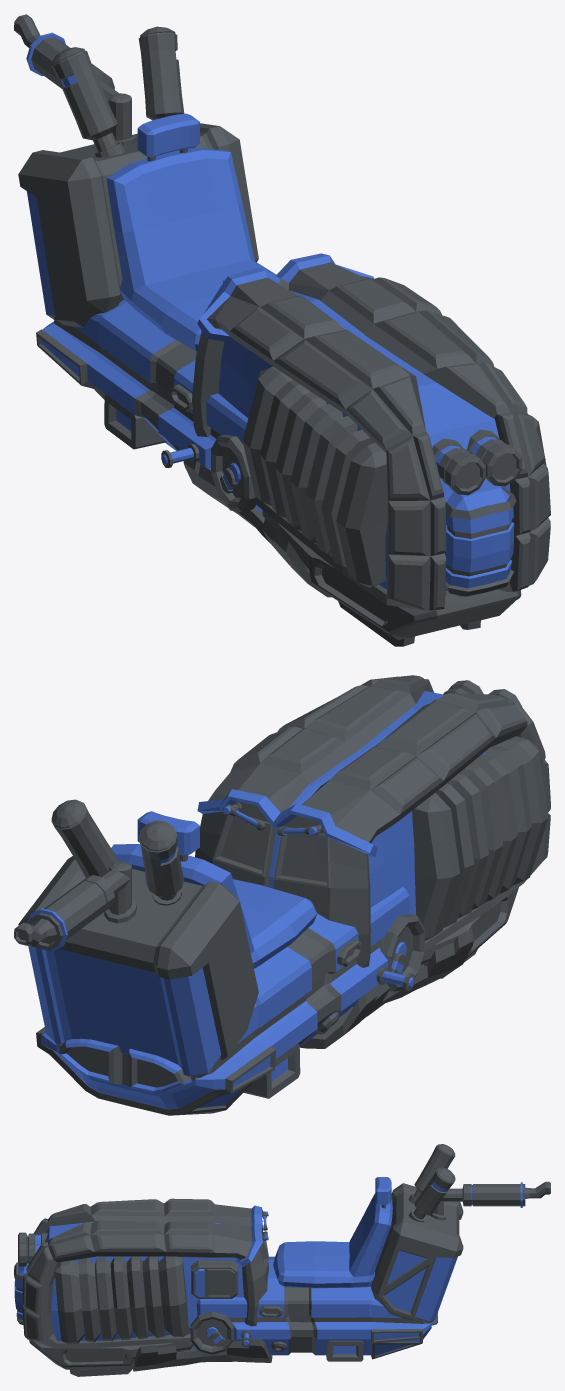
Rendered from Personal_Vehicle_02_Blue.fbx.
3 renders of one model, top to bottom at view 1: azimuth 30°, elevation 25°; view 2: azimuth 150°, elevation 25°; view 3: azimuth 270°, elevation 25°, orthographic. The views are drawn at different scales.
Visible parts, largest first — view 1: Personal_Vehicle_02_Blue; view 2: Personal_Vehicle_02_Blue; view 3: Personal_Vehicle_02_Blue.
Boxes of the visible parts, x1=… form: Personal_Vehicle_02_Blue: x1=14, y1=14, x2=550, y2=646; Personal_Vehicle_02_Blue: x1=14, y1=675, x2=550, y2=1115; Personal_Vehicle_02_Blue: x1=14, y1=1144, x2=550, y2=1376.
Size of the model in its own units: 131 by 184 by 429.
Materials: 2 (2 with a texture image).
